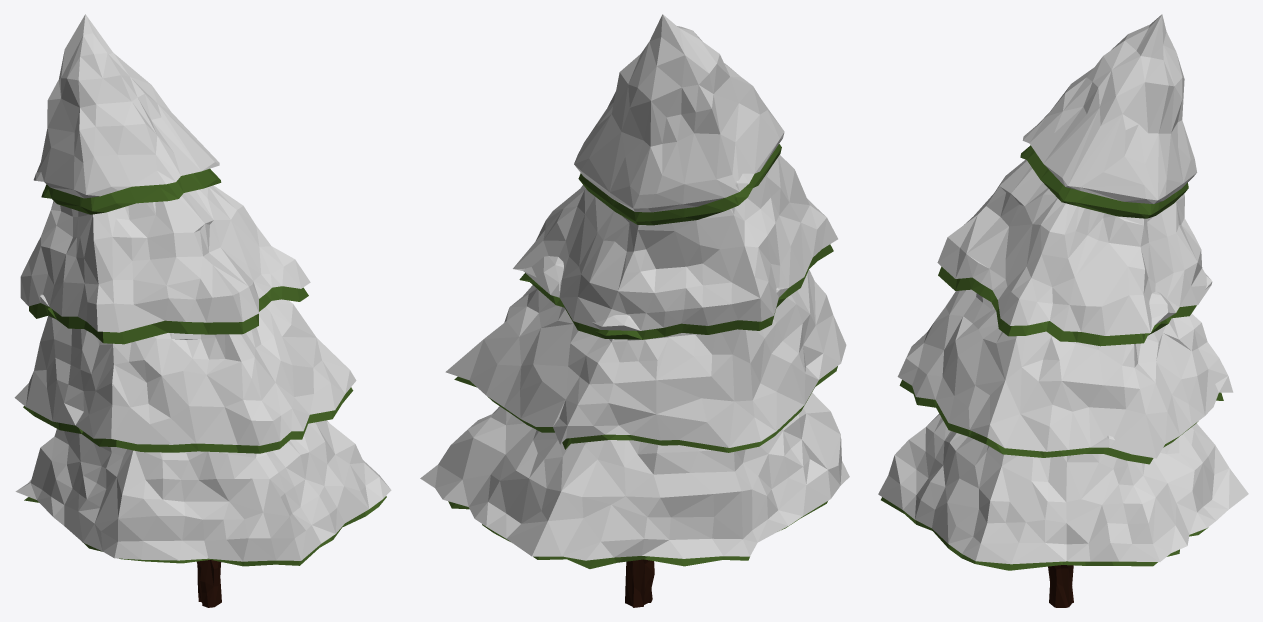
File: Tree01.dae
3 views of the same model, side by side, from view 1: azimuth 30°, elevation 25°; view 2: azimuth 150°, elevation 25°; view 3: azimuth 270°, elevation 25° (orthographic). The views are drawn at different scales.
Parts seen in each view (by area): view 1: Circle_004; view 2: Circle_004; view 3: Circle_004.
Part boxes in pixels (<box>): Circle_004: <box>14,14,391,607</box>; Circle_004: <box>420,14,849,607</box>; Circle_004: <box>878,14,1248,607</box>.
Bounding box in the file's own units: 1.8 × 2 × 3.31.
